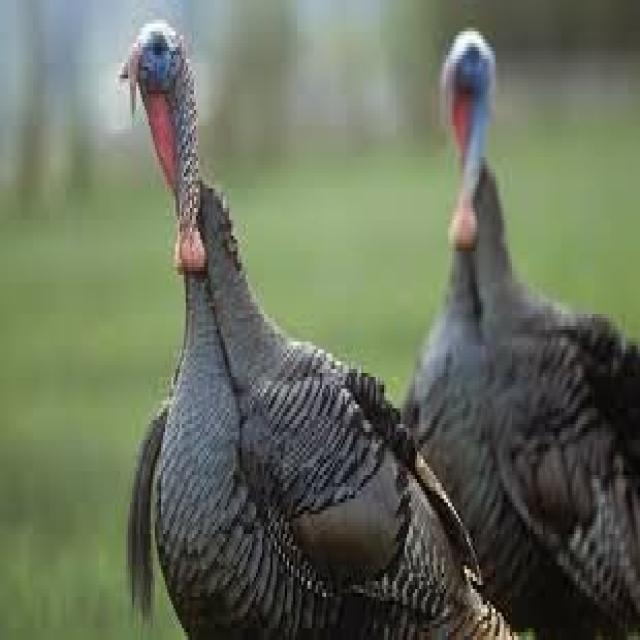Turkey: (108, 14, 519, 640), (409, 8, 640, 636)
